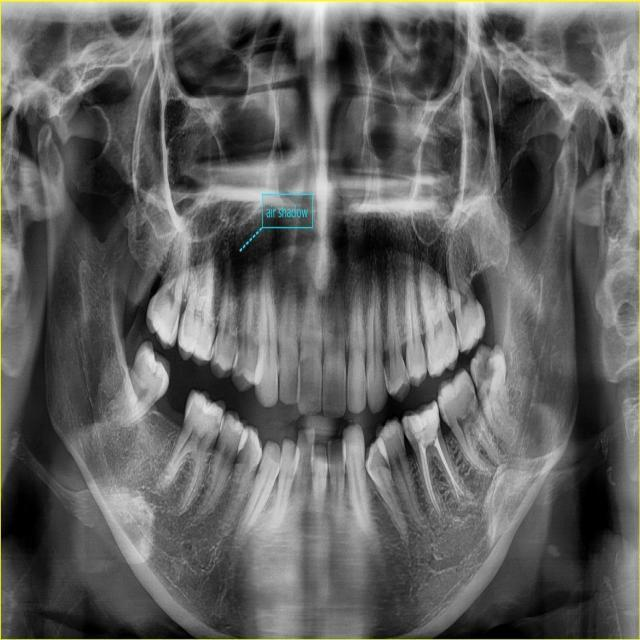74: (430, 434, 466, 501), (416, 439, 438, 514), (422, 448, 437, 505)
Sterngold Implant: (470, 346, 499, 386), (210, 414, 226, 435), (145, 364, 160, 381), (452, 388, 466, 403), (425, 343, 432, 366), (438, 404, 448, 419)
Straumann Implant: (403, 398, 451, 450)
